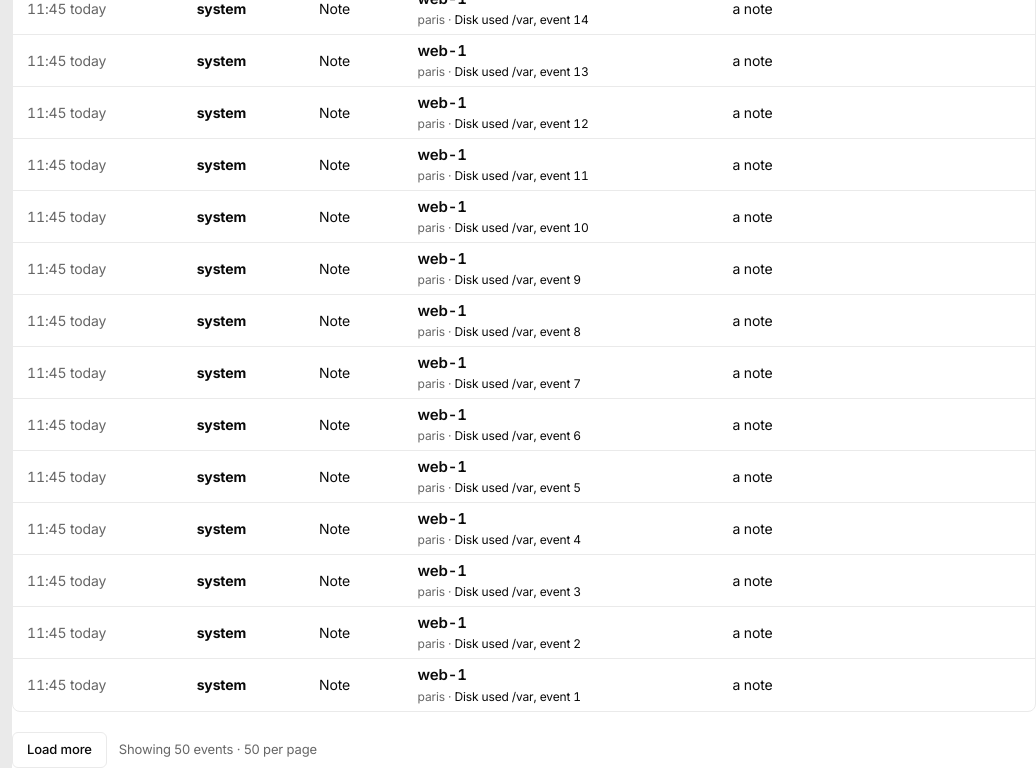
RemediationAudit › loads more events
The width and height of the screenshot is (1036, 768).
(page scrolled)
Click the button "Load more" at (59, 750), box [12,732,107,767]
(page scrolled)
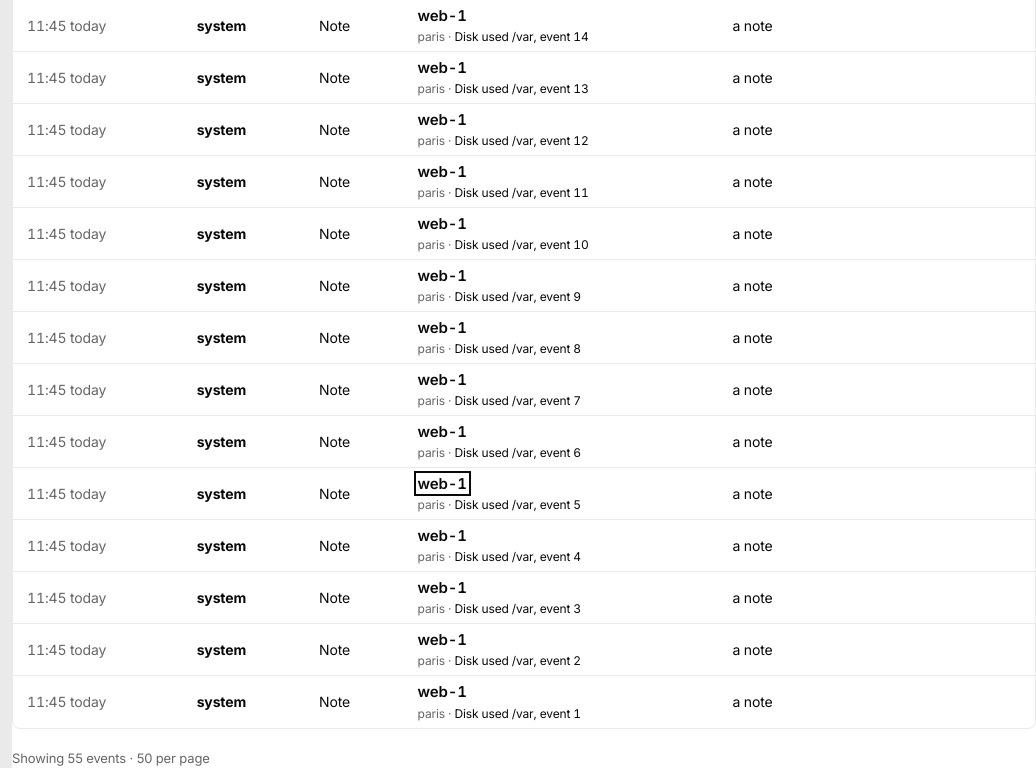
Now the button "Load more" is gone
